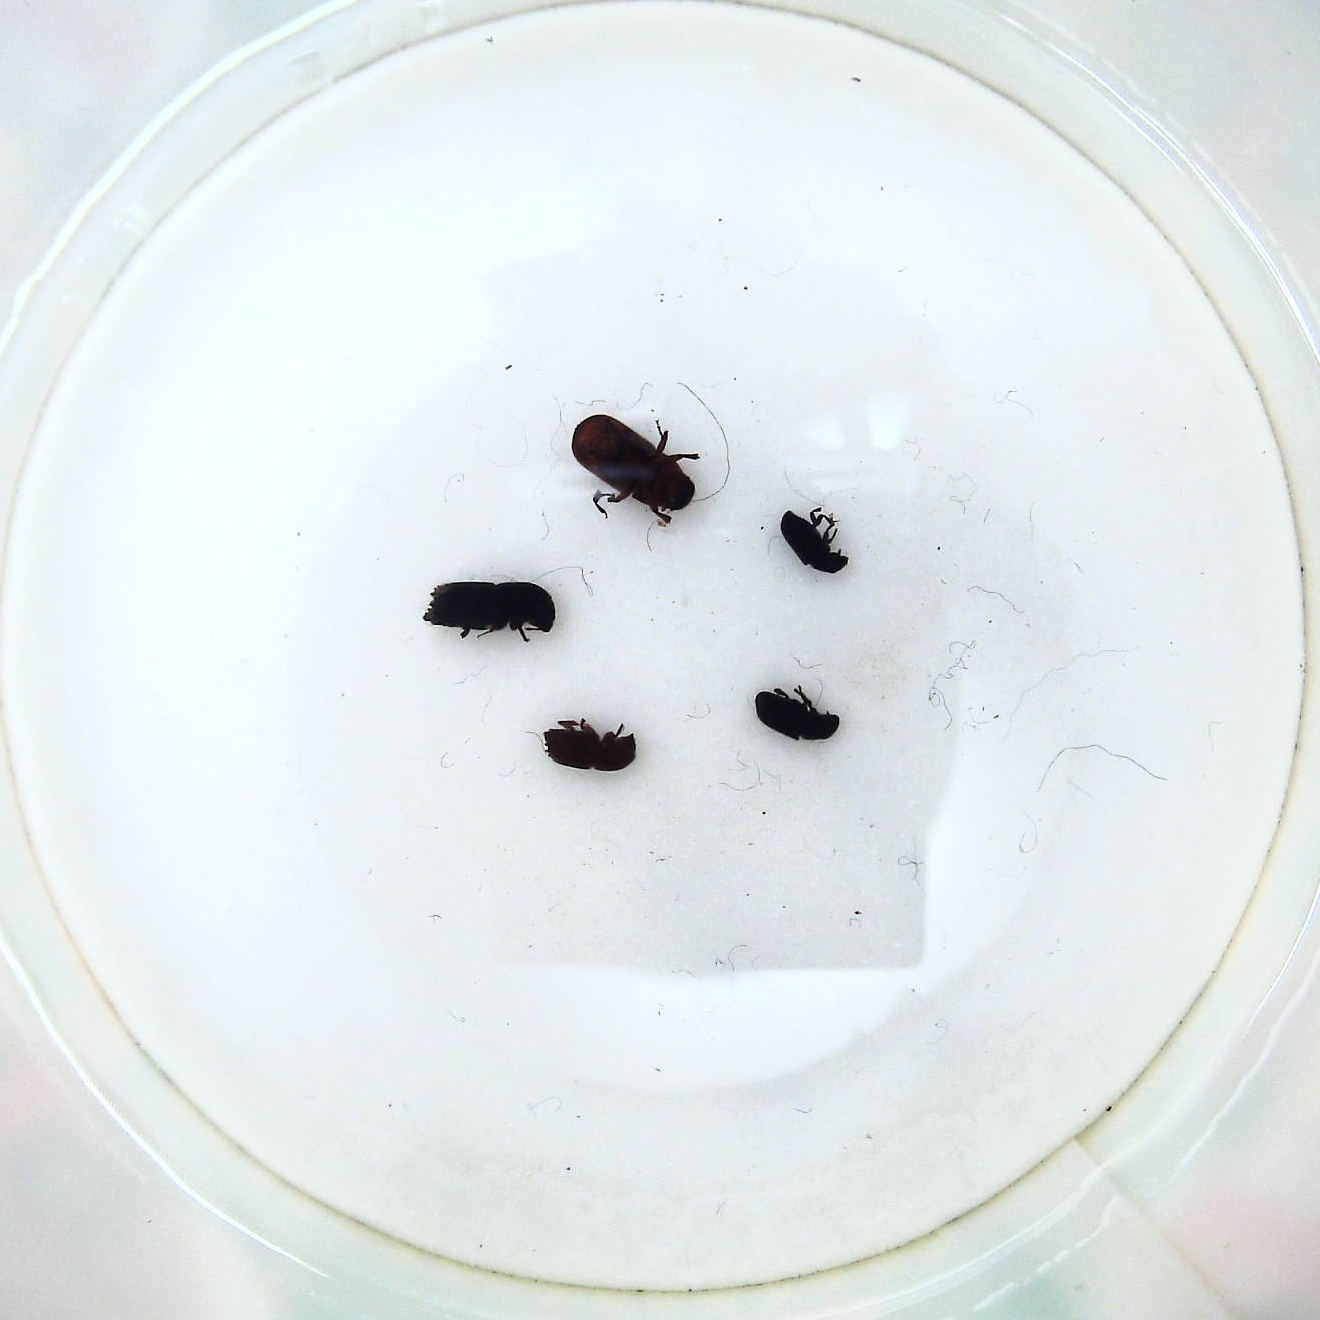Boerner: (419, 574, 563, 655)
Leconte: (568, 406, 704, 533)
armandi: (743, 684, 843, 752)
coleoptera: (772, 506, 853, 579)
linnaeus: (538, 716, 645, 778)
